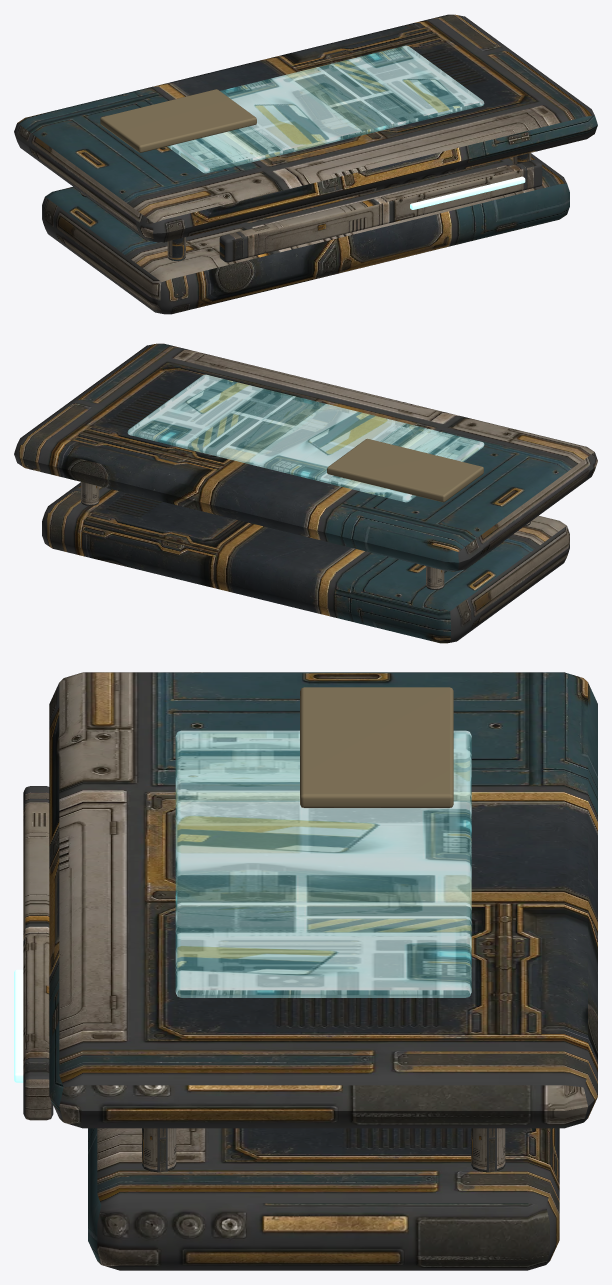
The model's file is hp_room_lounge_low_table_residential.glb.
3 views of the same model, one above another, from view 1: azimuth 30°, elevation 25°; view 2: azimuth 150°, elevation 25°; view 3: azimuth 270°, elevation 25° (orthographic). The views are drawn at different scales.
Parts seen in each view (by area): view 1: floating_but_supported_table_slab, black_table_leg, smoked_glass_inset, blank_warm_tray_card, front_cyan_drawer_readline; view 2: floating_but_supported_table_slab, black_table_leg, smoked_glass_inset, blank_warm_tray_card; view 3: floating_but_supported_table_slab, black_table_leg, smoked_glass_inset, blank_warm_tray_card, front_cyan_drawer_readline.
Part boxes in pixels (<box>): floating_but_supported_table_slab: <box>14,14,597,242</box>; black_table_leg: <box>42,153,569,314</box>; smoked_glass_inset: <box>167,45,484,173</box>; blank_warm_tray_card: <box>100,89,256,152</box>; front_cyan_drawer_readline: <box>410,176,525,209</box>; floating_but_supported_table_slab: <box>14,343,597,571</box>; black_table_leg: <box>42,482,569,643</box>; smoked_glass_inset: <box>127,374,484,502</box>; blank_warm_tray_card: <box>327,438,483,502</box>; floating_but_supported_table_slab: <box>49,672,597,1128</box>; black_table_leg: <box>23,786,559,1270</box>; smoked_glass_inset: <box>175,730,471,997</box>; blank_warm_tray_card: <box>300,687,453,808</box>; front_cyan_drawer_readline: <box>14,969,23,1082</box>.
Bounding box in the file's own units: 1.5 × 0.404 × 0.8782.
Materials: 5 (3 with a texture image).
